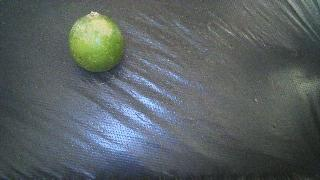DESECHO: (69, 11, 125, 72)
